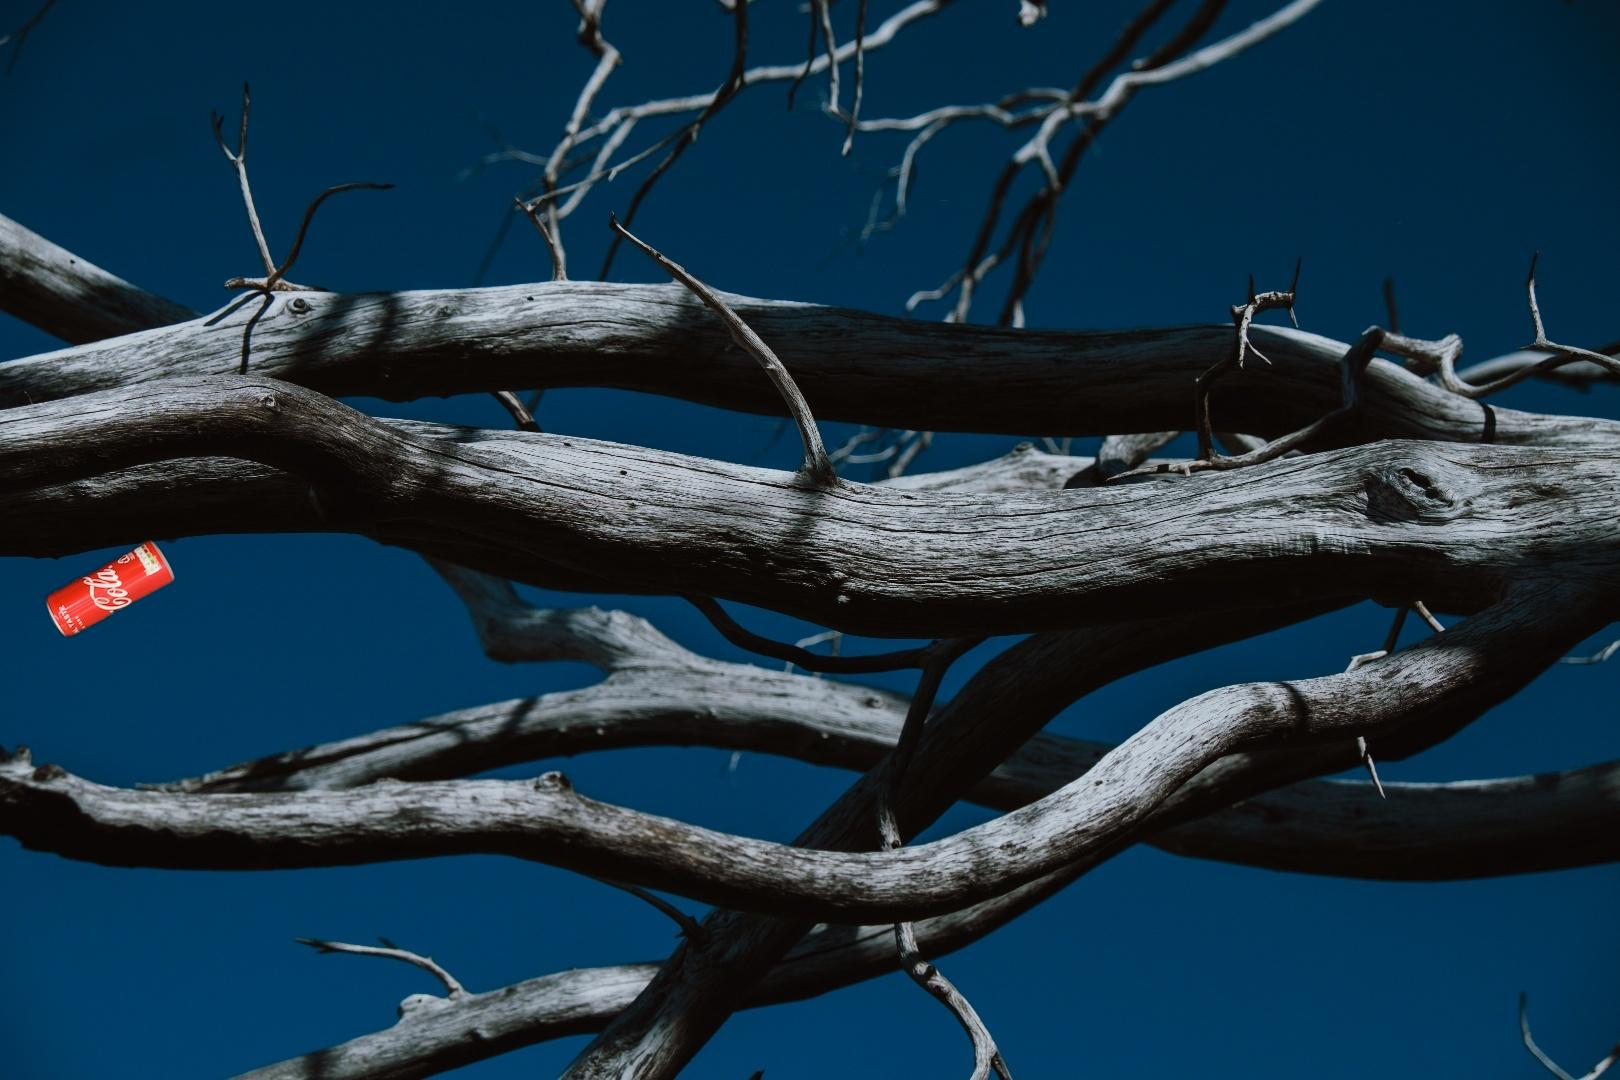metal-cans: (40, 535, 180, 644)
plastic-bottles: (298, 1072, 703, 1080)
